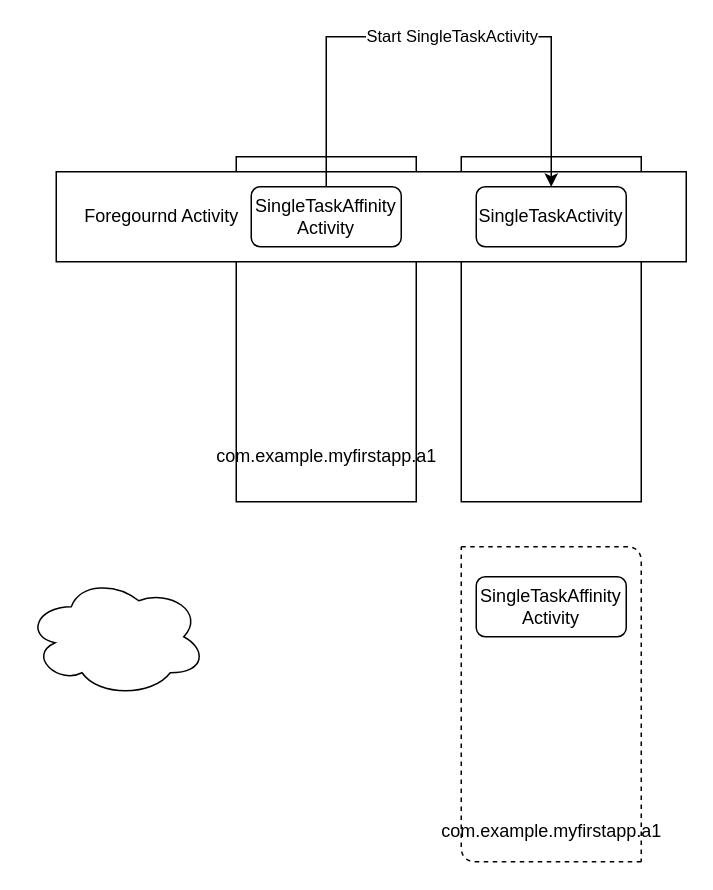
Image size: 713x890. Some labels were removed from this diagram. Each missing label, with the centre of its shape:
Background Task: the point at 115,636
Default Task: the point at 550,328
